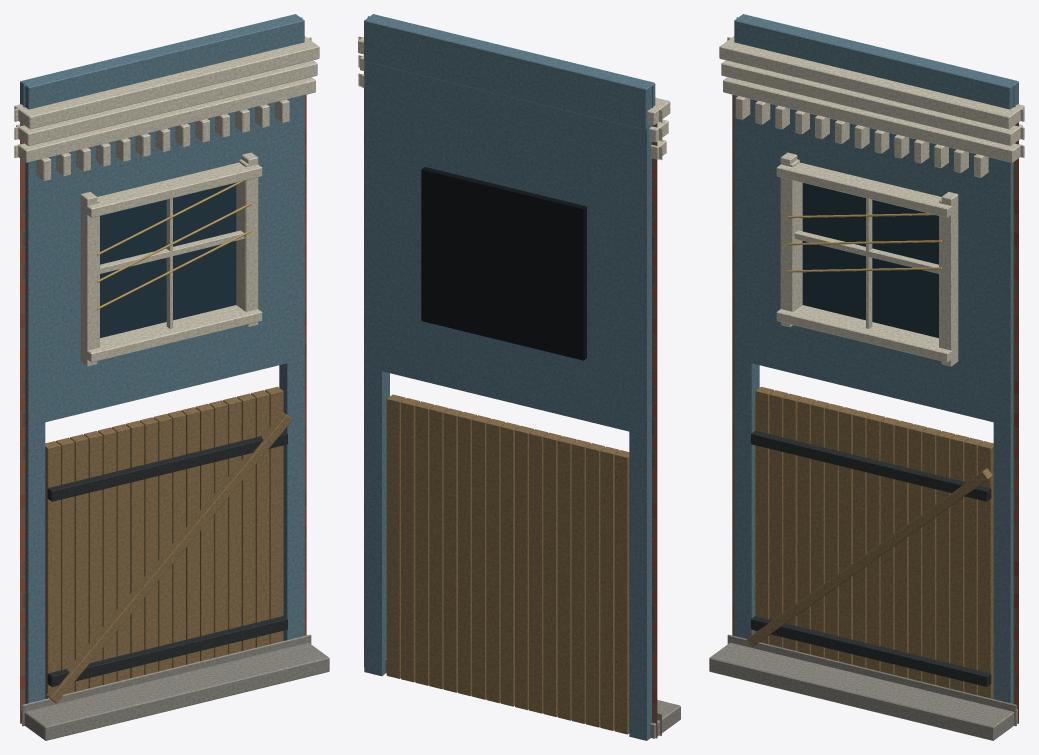
Rendered from WRHS6_lod1.glb.
The picture shows the model from 3 angles, left to right: view 1: azimuth 30°, elevation 25°; view 2: azimuth 150°, elevation 25°; view 3: azimuth 330°, elevation 25°; orthographic projection. The views are drawn at different scales.
Parts seen in each view (by area): view 1: WRHS6_FRONT_LOD1; view 2: WRHS6_FRONT_LOD1; view 3: WRHS6_FRONT_LOD1.
Boxes of the visible parts, x1,y1,x2,y2 form: WRHS6_FRONT_LOD1: [14, 14, 329, 740]; WRHS6_FRONT_LOD1: [358, 14, 680, 740]; WRHS6_FRONT_LOD1: [709, 14, 1024, 740].
Bounding box in the file's own units: 3.44 × 7.05 × 0.65.
Materials: 10 (7 with a texture image).
